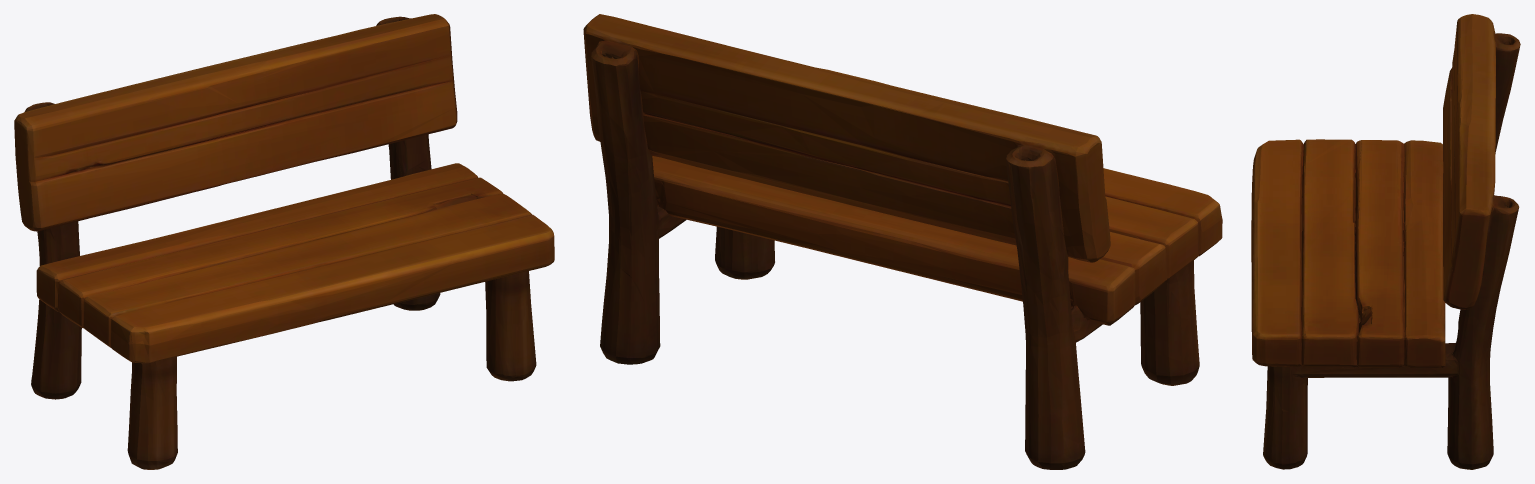
File: bench.glb
3 renders of one model, left to right at view 1: azimuth 30°, elevation 25°; view 2: azimuth 150°, elevation 25°; view 3: azimuth 270°, elevation 25°, orthographic. The views are drawn at different scales.
Parts seen in each view (by area): view 1: geometry_0; view 2: geometry_0; view 3: geometry_0.
Part boxes in pixels (x1,y1,x2,y2): geometry_0: (14, 14, 554, 469); geometry_0: (583, 14, 1222, 469); geometry_0: (1251, 14, 1520, 469).
Bounding box in the file's own units: 0.9999 × 0.6356 × 0.5743.
Materials: 1 (1 with a texture image).
